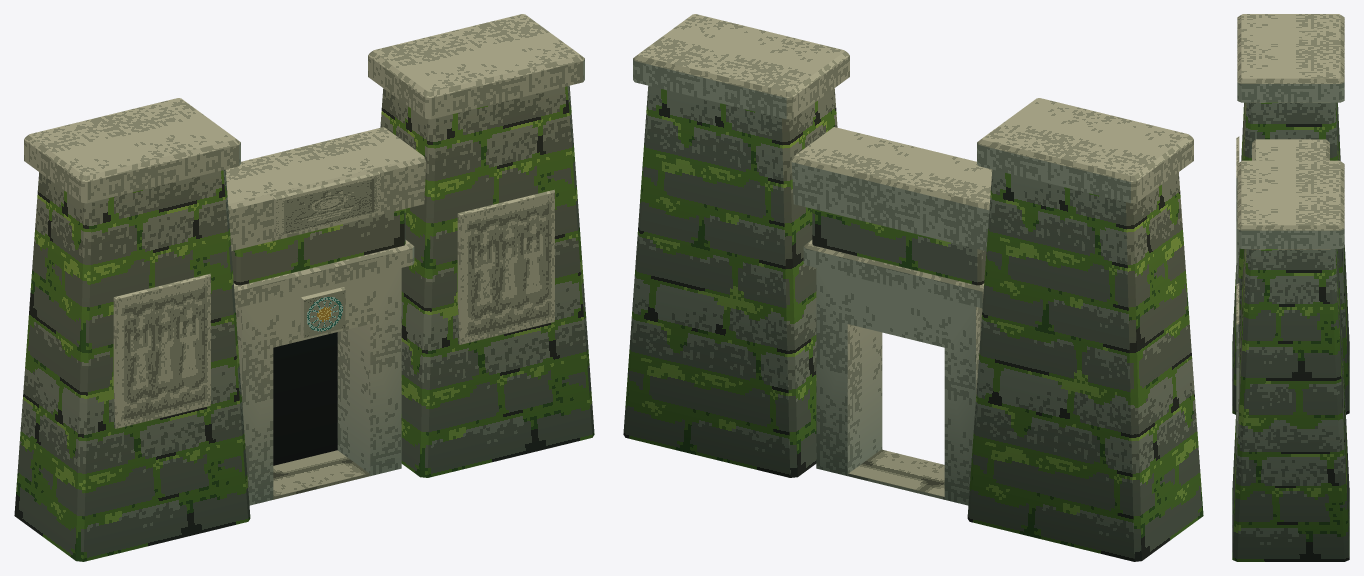
The model's file is ruin.gate__pylon.glb.
The picture shows the model from 3 angles, left to right: view 1: azimuth 30°, elevation 25°; view 2: azimuth 150°, elevation 25°; view 3: azimuth 270°, elevation 25°; orthographic projection. The views are drawn at different scales.
Visible parts, largest first — view 1: kit_towers, kit_beam, kit_frame, kit_shell_passage, kit_lintel, kit_threshold; view 2: kit_towers, kit_beam, kit_frame, kit_lintel, kit_threshold; view 3: kit_towers, kit_beam.
Part boxes in pixels (x1,y1,x2,y2): kit_towers: [14, 14, 594, 561]; kit_beam: [225, 127, 426, 285]; kit_frame: [235, 268, 401, 505]; kit_shell_passage: [273, 332, 337, 465]; kit_lintel: [233, 240, 414, 337]; kit_threshold: [273, 450, 369, 499]; kit_towers: [623, 14, 1203, 561]; kit_beam: [791, 127, 992, 285]; kit_frame: [816, 268, 982, 505]; kit_lintel: [803, 240, 984, 308]; kit_threshold: [848, 449, 944, 499]; kit_towers: [1232, 14, 1349, 561]; kit_beam: [1252, 139, 1329, 160].
Size of the model in its own units: 10.7 by 7.5 by 2.4.
7 materials, 7 textured.
